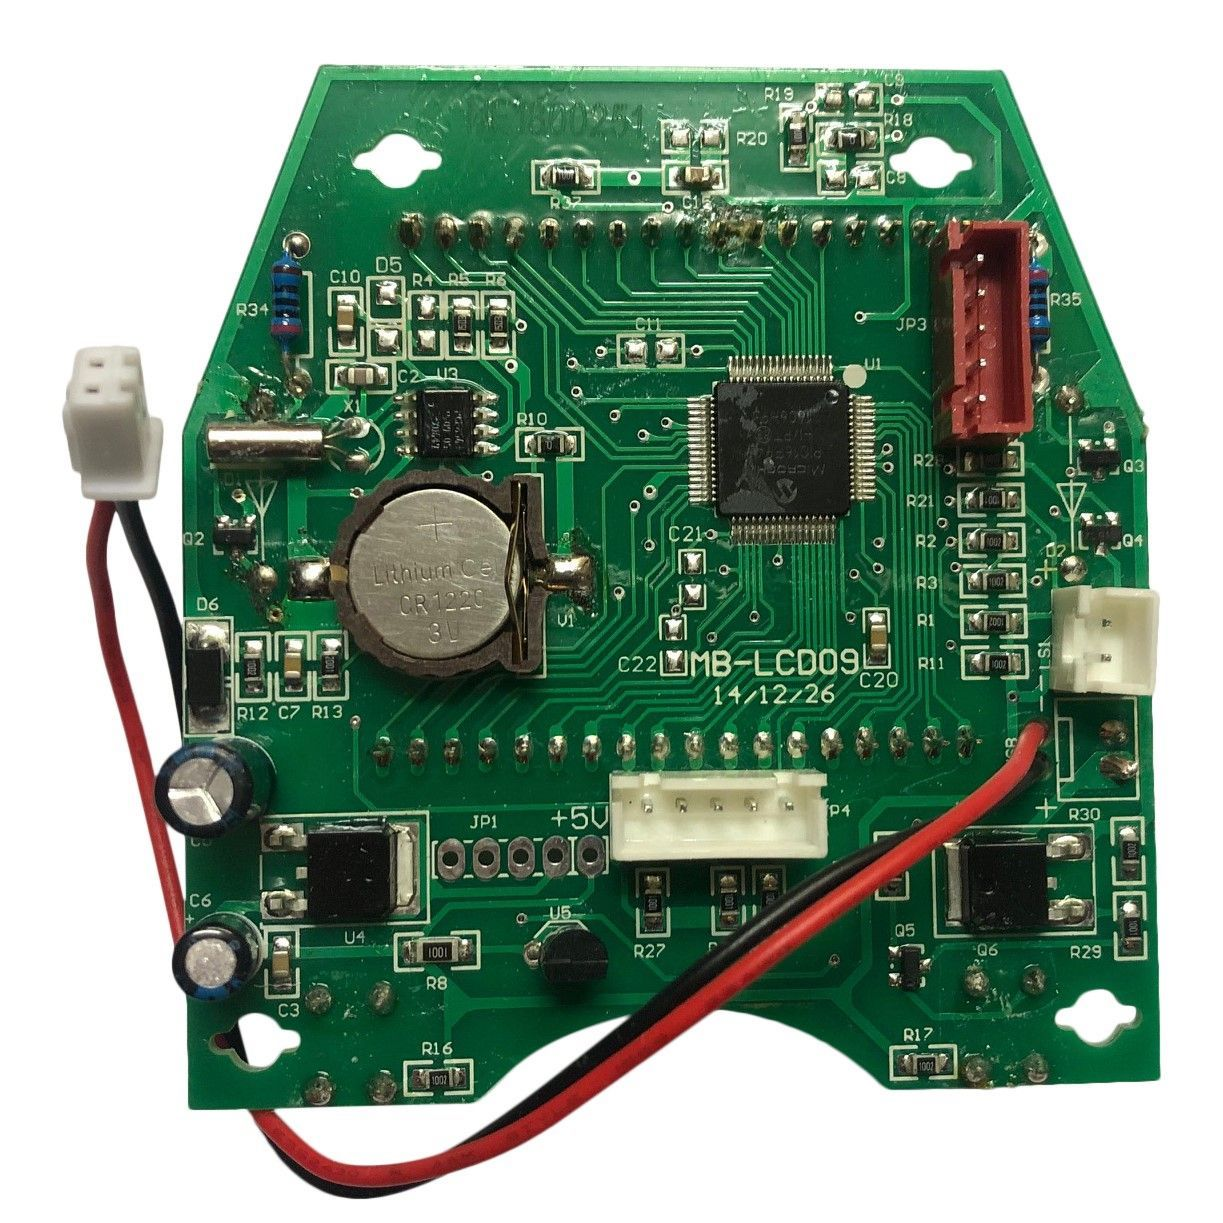Capacitor: (152, 732, 278, 840), (170, 911, 261, 1003)
Resistor: (270, 253, 307, 349), (1029, 262, 1052, 346)
